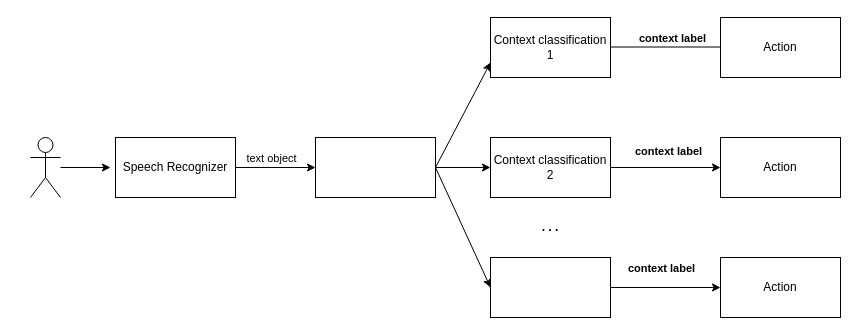
Some shapes in this 858 by 335 pixel diagram are drawn without their labels. The centre of each missing label's shape, as x and y in pixels:
Audio file/ micrphone: the point at 45,167
Context classification n: the point at 550,287
Text segmentation and classification: the point at 375,167
